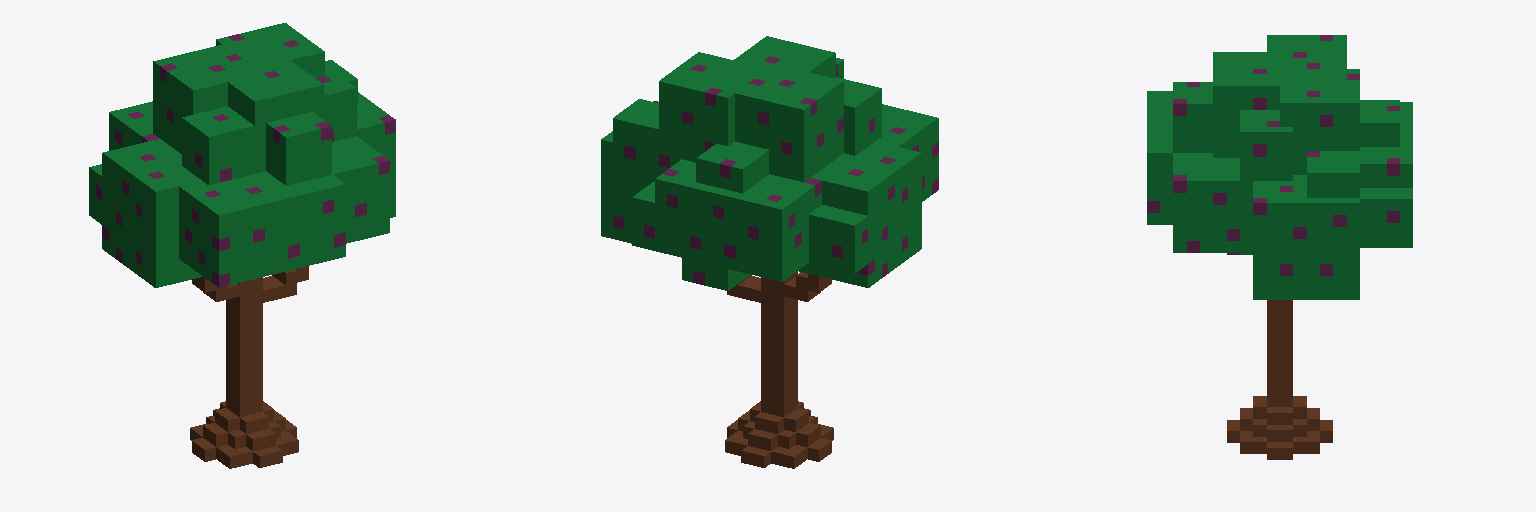
3 views of the same model, side by side, from view 1: azimuth 30°, elevation 25°; view 2: azimuth 150°, elevation 25°; view 3: azimuth 270°, elevation 25° (orthographic).
Parts seen in each view (by area): view 1: object 1; view 2: object 1; view 3: object 1.
Boxes of the visible parts, <box> form: object 1: <box>89,23,395,468</box>; object 1: <box>601,36,938,468</box>; object 1: <box>1147,35,1412,459</box>.
Bounding box in the file's own units: 2.2 × 3.1 × 2.
1 materials, 1 textured.